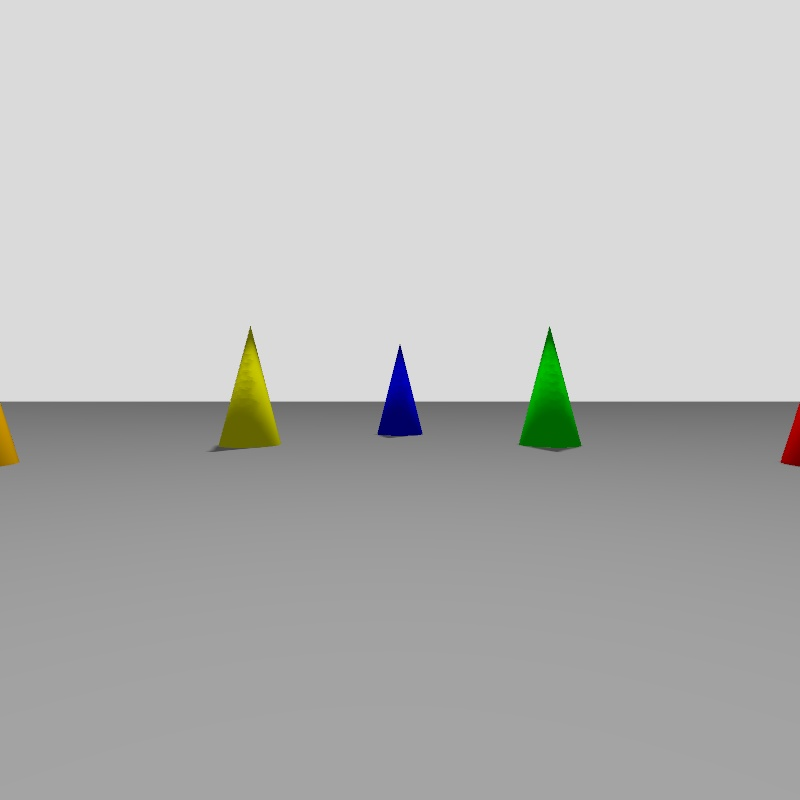Blue_cone: (377, 346, 421, 436)
Green_cone: (520, 329, 581, 449)
Orange_cone: (0, 404, 18, 465)
Red_cone: (781, 404, 799, 466)
Yellow_cone: (219, 328, 280, 448)
